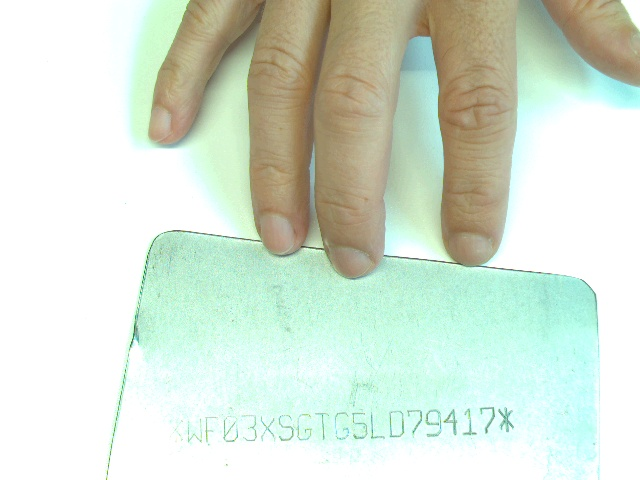0: (221, 413, 239, 444)
1: (462, 407, 478, 437)
3: (240, 412, 259, 443)
4: (444, 407, 460, 437)
5: (351, 411, 369, 441)
7: (407, 408, 425, 440), (480, 405, 497, 436)
9: (425, 408, 444, 439)
d: (388, 409, 407, 439)
f: (204, 415, 218, 445)
g: (334, 411, 351, 442), (296, 412, 312, 440)
l: (369, 411, 387, 442)
s: (276, 413, 296, 444)
t: (315, 411, 332, 441)
w: (184, 414, 203, 444)
x: (259, 413, 277, 444)
